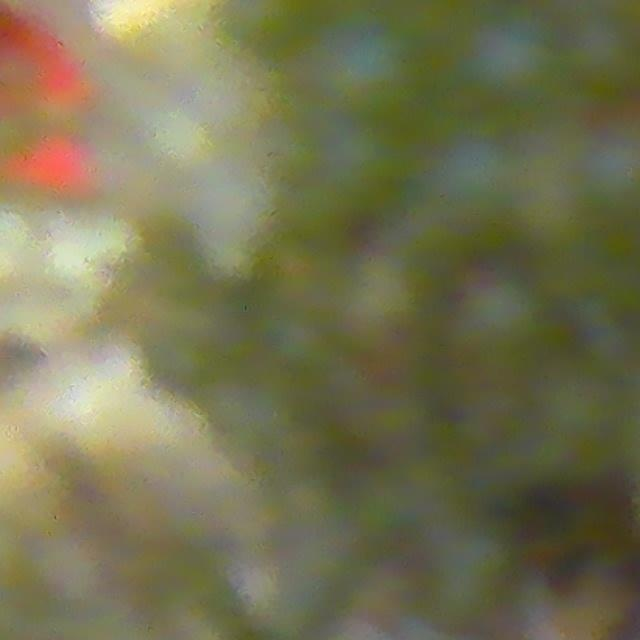SeaGrape: (309, 13, 416, 119), (456, 2, 562, 106), (434, 127, 519, 234), (455, 270, 547, 359), (567, 23, 640, 104), (578, 127, 640, 222), (331, 127, 416, 185), (219, 0, 304, 52)
